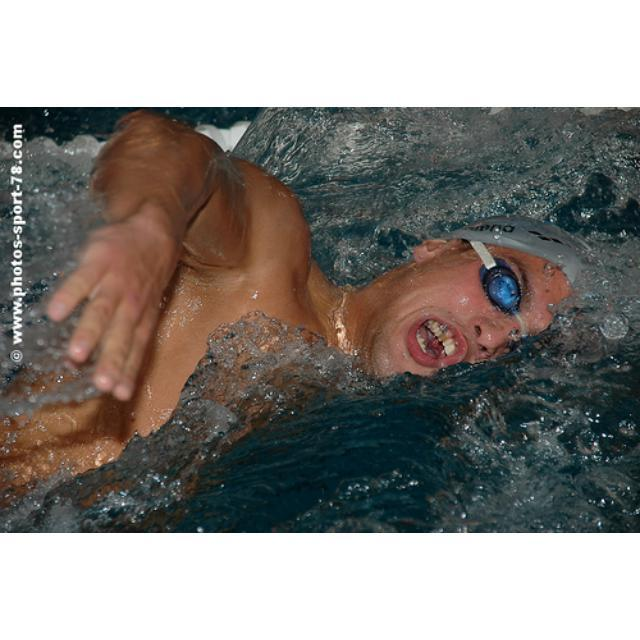human: (1, 118, 639, 505)
